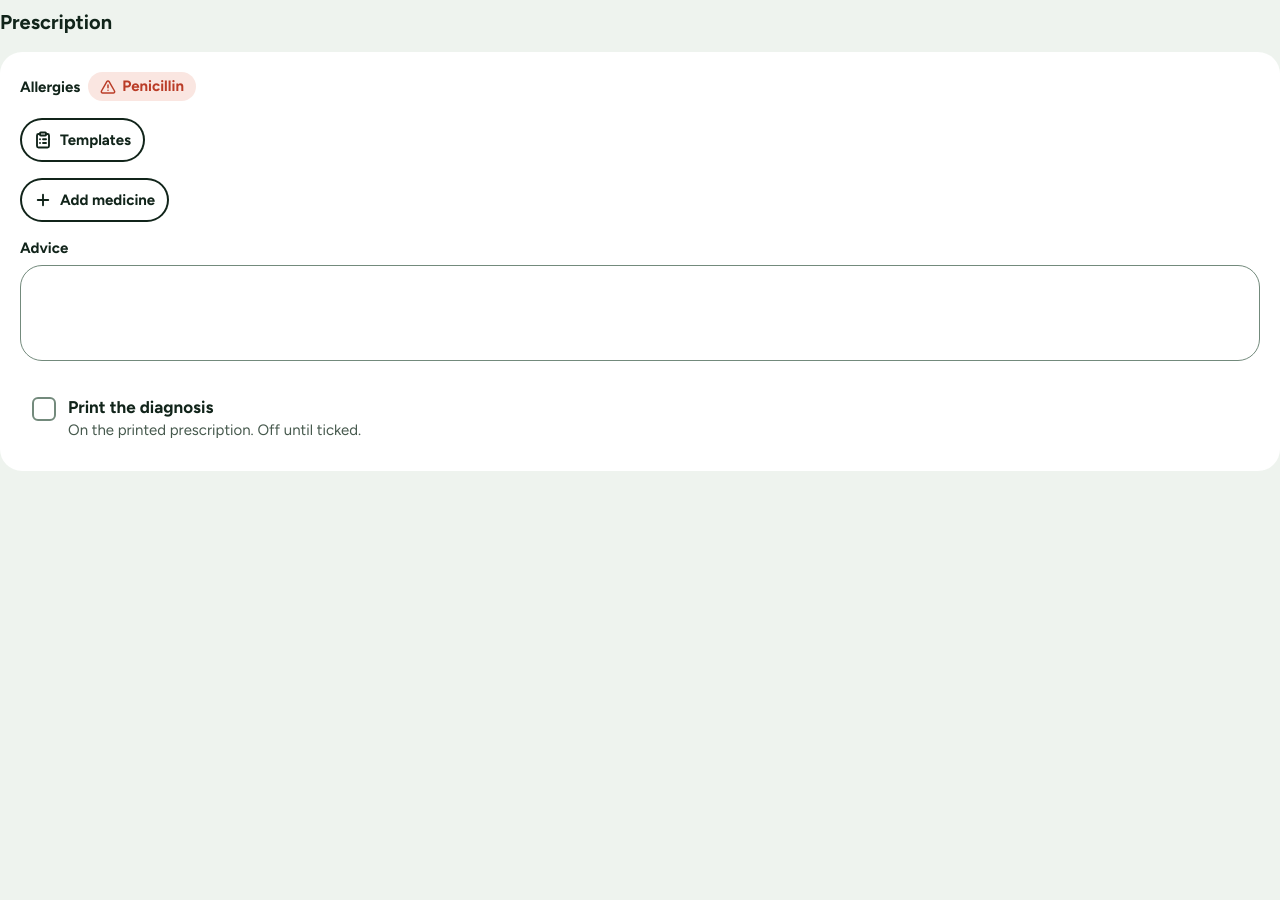
Test case: PrescriptionSection's Save as template (D239, D240, D243) › is the visit's doctor's, once there is a medicine
Check: the button "Save as template" is not shown
Click the button "Add medicine".
click(95, 200)  # box [20,178,169,222]
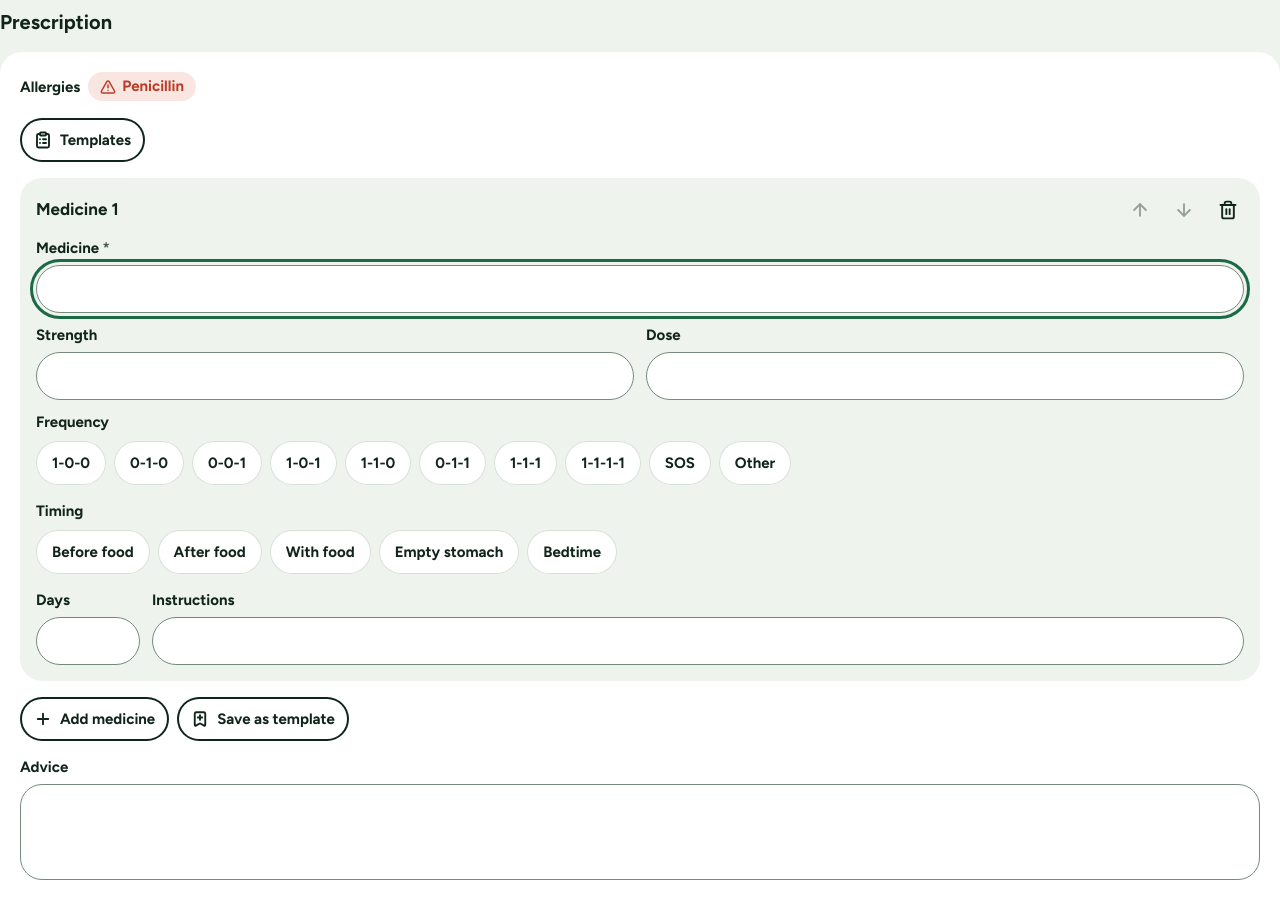
Check: the button "Save as template" is shown, box [177,697,349,741]
